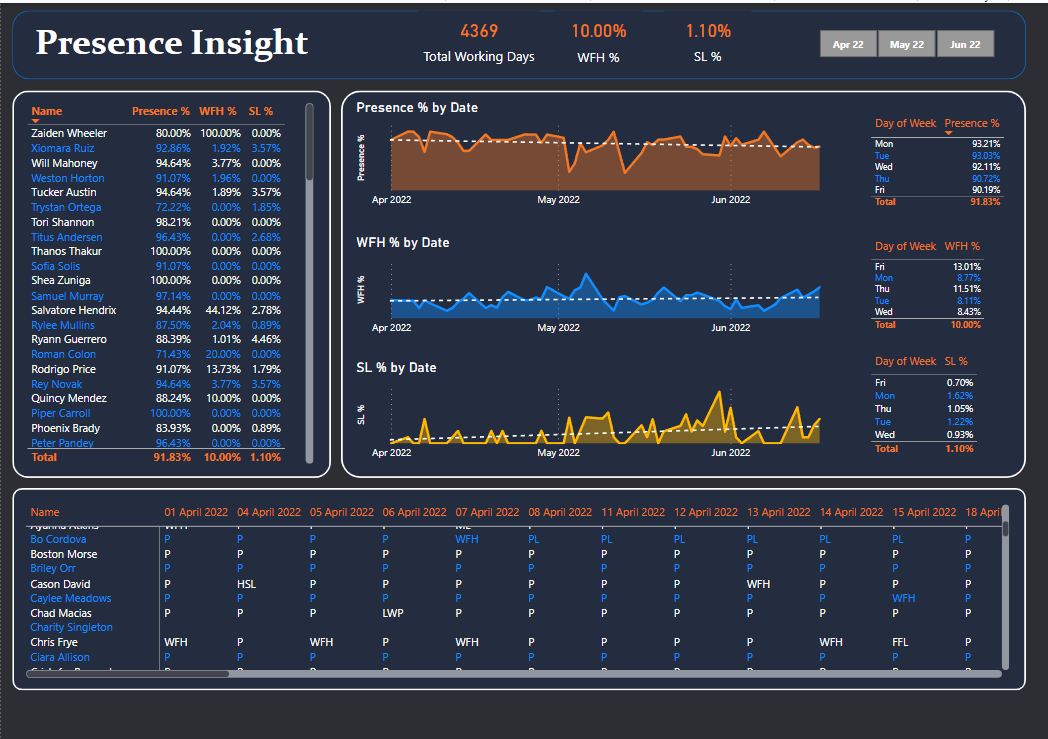

The page's visual inventory and layout, read from the dashboard file:
{"tool":"powerbi","page":{"name":"Page 1","canvas":[1280,900],"ordinal":0},"visuals":[{"type":"shape","box":[13.8,9.2,1239.2,84],"z":0},{"type":"shape","box":[415.6,107,837.4,473.7],"z":1000},{"type":"shape","box":[13.8,592.9,1239.2,247.5],"z":2000},{"type":"shape","box":[13.8,107,389.6,473.7],"z":3000},{"type":"card","fields":{"Values":["measure table.SL %"]},"box":[811.4,9.2,105.4,70.3],"z":4000},{"type":"card","fields":{"Values":["measure table.Total Working Days"]},"box":[510.4,9.2,148.2,70.3],"z":5000},{"type":"card","fields":{"Values":["measure table.WFH %"]},"box":[676.9,9.2,107,71.8],"z":6000},{"type":"tableEx","fields":{"Values":["Final Data.Name","measure table.Presence %","measure table.WFH %","measure table.SL %"]},"box":[26,117.7,360.6,450.8],"z":7000},{"type":"textbox","box":[36.7,16.8,366.7,67.2],"z":8000},{"type":"pivotTable","fields":{"Rows":["Final Data.Name"],"Values":["Min(Final Data.Value)"],"Columns":["Final Data.Date"]},"box":[26,608.1,1211.7,221.6],"z":9000},{"type":"areaChart","fields":{"Category":["Final Data.Date"],"Y":["measure table.Presence %"]},"box":[429.4,117.7,600.5,140.6],"z":10000},{"type":"slicer","fields":{"Values":["Final Data.Month"]},"box":[974.9,26,262.8,47.4],"z":11000},{"type":"areaChart","fields":{"Category":["Final Data.Date"],"Y":["measure table.WFH %"]},"box":[429.4,282.7,600.5,132.9],"z":12000},{"type":"areaChart","fields":{"Category":["Final Data.Date"],"Y":["measure table.SL %"]},"box":[429.4,435.5,600.5,132.9],"z":13000},{"type":"tableEx","fields":{"Values":["Final Data.Day of Week","measure table.Presence %"]},"box":[1057.4,132.9,180.3,125.3],"z":14000},{"type":"tableEx","fields":{"Values":["Final Data.Day of Week","measure table.WFH %"]},"box":[1057.4,282.7,180.3,140.6],"z":15000},{"type":"tableEx","fields":{"Values":["Final Data.Day of Week","measure table.SL %"]},"box":[1057.4,423.3,180.3,145.2],"z":16000}]}

Visuals, with their boxes in screenshot pixels (x1, y1, x2, y2), scaled from the page's 1280x900 canvas onto the 1048x739 screenshot:
shape: [11, 8, 1026, 77]
shape: [340, 88, 1026, 477]
shape: [11, 487, 1026, 690]
shape: [11, 88, 330, 477]
card - measure table.SL %: [664, 8, 751, 65]
card - measure table.Total Working Days: [418, 8, 539, 65]
card - measure table.WFH %: [554, 8, 642, 67]
tableEx - Final Data.Name x measure table.Presence %: [21, 97, 317, 467]
textbox: [30, 14, 330, 69]
pivotTable - Final Data.Name x Min(Final Data.Value): [21, 499, 1013, 681]
areaChart - Final Data.Date x measure table.Presence %: [352, 97, 843, 212]
slicer - Final Data.Month: [798, 21, 1013, 60]
areaChart - Final Data.Date x measure table.WFH %: [352, 232, 843, 341]
areaChart - Final Data.Date x measure table.SL %: [352, 358, 843, 467]
tableEx - Final Data.Day of Week x measure table.Presence %: [866, 109, 1013, 212]
tableEx - Final Data.Day of Week x measure table.WFH %: [866, 232, 1013, 348]
tableEx - Final Data.Day of Week x measure table.SL %: [866, 348, 1013, 467]
